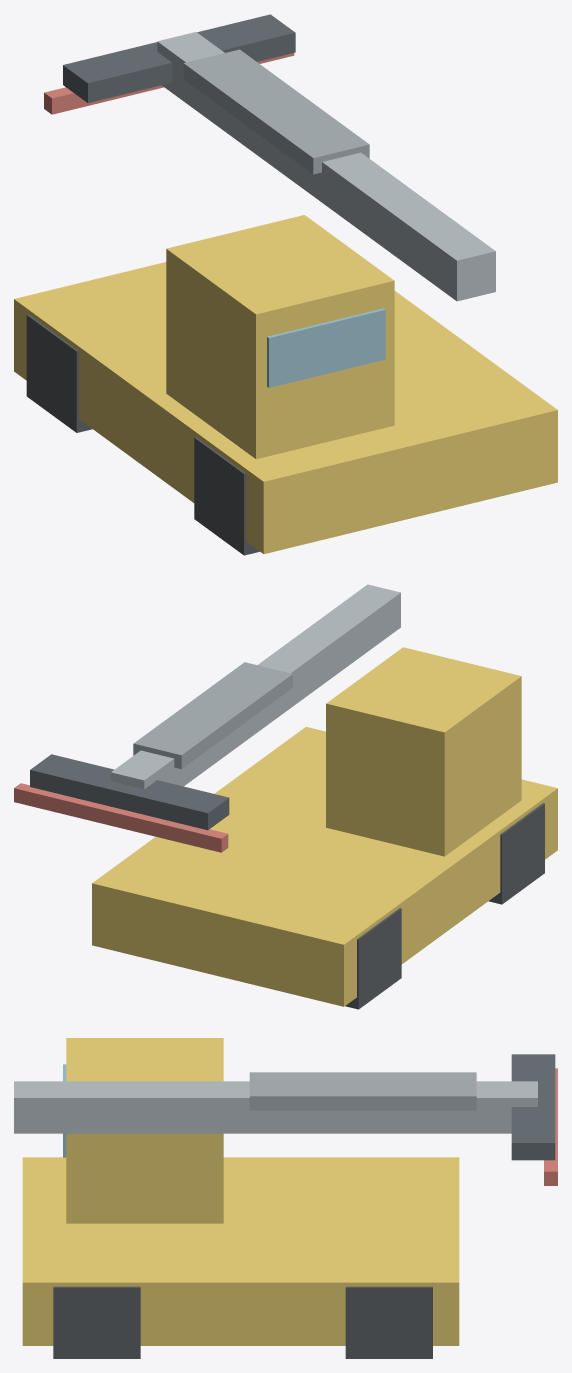
The model's file is reachstacker_lod1.glb.
The picture shows the model from 3 angles, top to bottom: view 1: azimuth 30°, elevation 25°; view 2: azimuth 150°, elevation 25°; view 3: azimuth 270°, elevation 25°; orthographic projection. The views are drawn at different scales.
Parts seen in each view (by area): view 1: reachstacker-node-0, reachstacker-node-1, reachstacker-node-2, reachstacker-node-9, reachstacker-node-3, reachstacker-node-8, reachstacker-node-4, reachstacker-node-5, reachstacker-node-10; view 2: reachstacker-node-0, reachstacker-node-1, reachstacker-node-2, reachstacker-node-9, reachstacker-node-3, reachstacker-node-10, reachstacker-node-4, reachstacker-node-5; view 3: reachstacker-node-0, reachstacker-node-1, reachstacker-node-2, reachstacker-node-9, reachstacker-node-7, reachstacker-node-6, reachstacker-node-3, reachstacker-node-10.
Part boxes in pixels (bbox=[...]): reachstacker-node-0: bbox=[14, 262, 557, 553]; reachstacker-node-1: bbox=[166, 215, 394, 459]; reachstacker-node-2: bbox=[157, 32, 495, 301]; reachstacker-node-9: bbox=[183, 49, 369, 174]; reachstacker-node-3: bbox=[63, 14, 295, 102]; reachstacker-node-8: bbox=[267, 308, 385, 387]; reachstacker-node-4: bbox=[26, 314, 92, 432]; reachstacker-node-5: bbox=[194, 437, 259, 555]; reachstacker-node-10: bbox=[44, 53, 294, 114]; reachstacker-node-0: bbox=[92, 727, 557, 1006]; reachstacker-node-1: bbox=[326, 647, 521, 856]; reachstacker-node-2: bbox=[111, 584, 400, 789]; reachstacker-node-9: bbox=[133, 662, 292, 769]; reachstacker-node-3: bbox=[30, 754, 229, 830]; reachstacker-node-10: bbox=[14, 783, 228, 852]; reachstacker-node-4: bbox=[345, 908, 401, 1009]; reachstacker-node-5: bbox=[488, 803, 544, 904]; reachstacker-node-0: bbox=[22, 1157, 459, 1345]; reachstacker-node-1: bbox=[66, 1038, 223, 1223]; reachstacker-node-2: bbox=[14, 1081, 537, 1133]; reachstacker-node-9: bbox=[249, 1072, 476, 1110]; reachstacker-node-7: bbox=[53, 1286, 140, 1358]; reachstacker-node-6: bbox=[345, 1286, 432, 1358]; reachstacker-node-3: bbox=[511, 1054, 555, 1160]; reachstacker-node-10: bbox=[544, 1068, 557, 1185].
Size of the model in its own units: 3.82 by 2.99 by 6.23.
